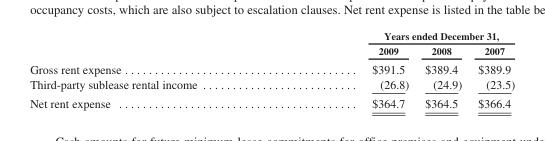table: (29, 29, 514, 110)
table column: (29, 29, 283, 110), (283, 29, 416, 110), (416, 29, 469, 110), (469, 29, 514, 110)
table column header: (29, 29, 514, 59)
table row: (29, 42, 514, 59), (29, 59, 514, 76), (29, 76, 514, 93), (29, 93, 514, 110), (29, 29, 514, 42)
table spanning cell: (283, 29, 514, 42)
